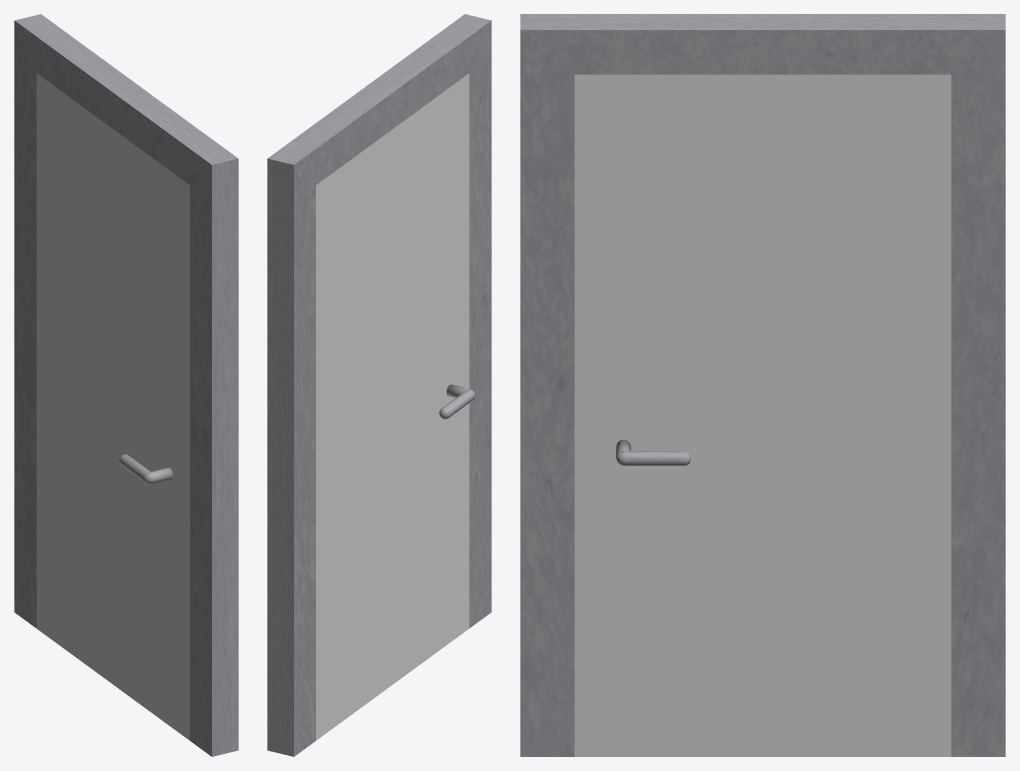
File: normalDoor.fbx
3 views of the same model, side by side, from view 1: azimuth 30°, elevation 25°; view 2: azimuth 150°, elevation 25°; view 3: azimuth 270°, elevation 25° (orthographic). The views are drawn at different scales.
Parts seen in each view (by area): view 1: gun wall.002, door.002; view 2: gun wall.002, door.002; view 3: gun wall.002, door.002.
Boxes of the visible parts, box(x1,y1,x2,y2) form: gun wall.002: box(36, 73, 189, 740); door.002: box(14, 14, 238, 756); gun wall.002: box(316, 73, 475, 740); door.002: box(267, 14, 491, 756); gun wall.002: box(574, 74, 951, 756); door.002: box(520, 14, 1005, 756).
Bounding box in the file's own units: 29.25 × 213 × 129.
Materials: 2 (2 with a texture image).
